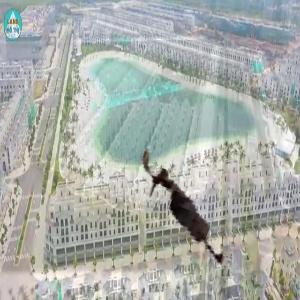drone: (112, 139, 272, 299)
